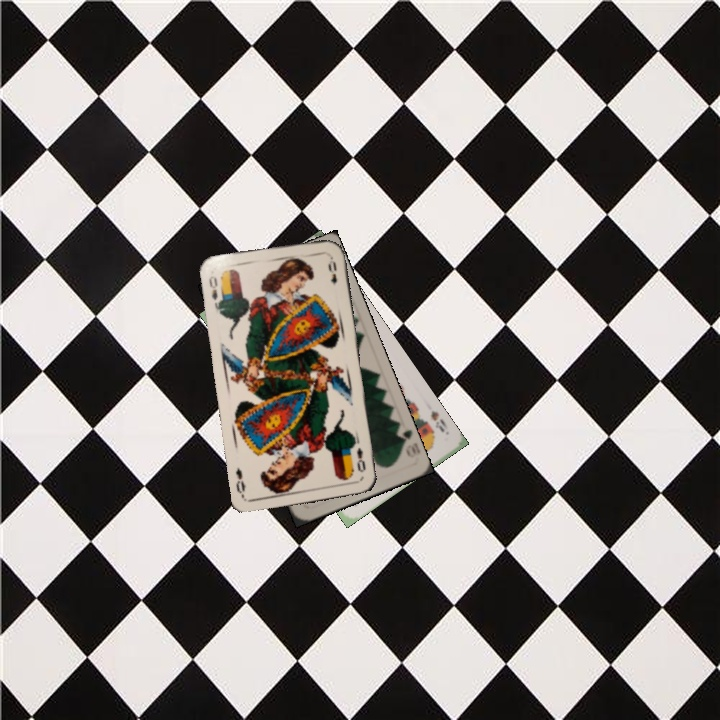EO: (205, 272, 226, 310), (353, 444, 368, 475)
G10: (392, 424, 419, 461)
S8: (427, 407, 447, 435)
